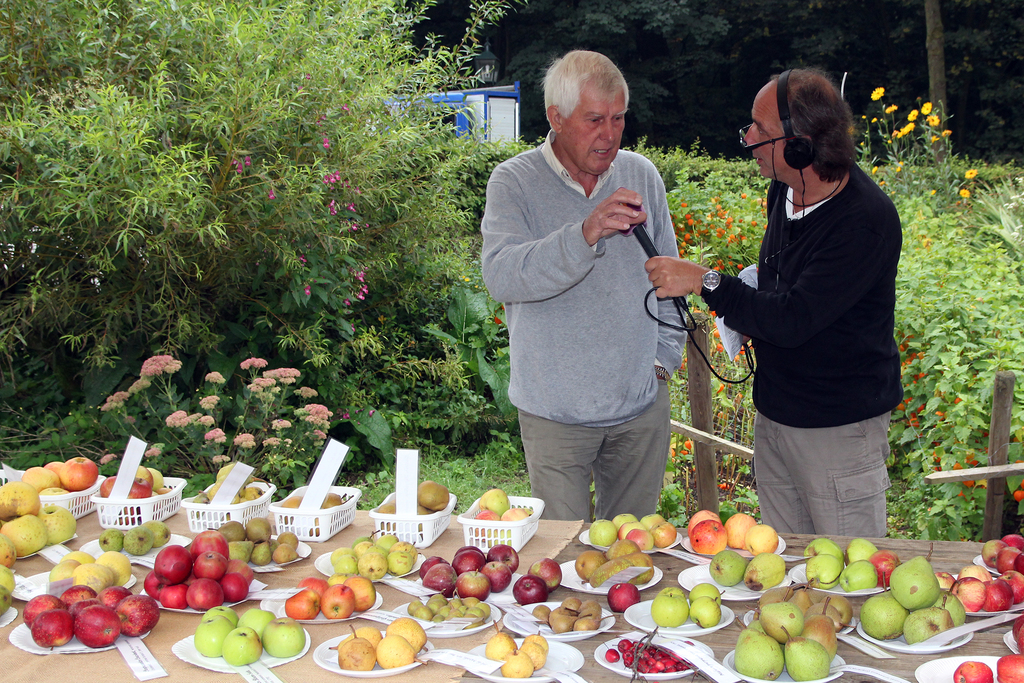Apple: (144, 529, 255, 611), (20, 584, 157, 647), (935, 533, 1023, 611), (418, 545, 517, 599), (587, 513, 676, 548), (259, 616, 306, 658), (71, 603, 119, 644), (0, 517, 46, 558), (218, 625, 261, 665), (192, 617, 233, 657), (0, 482, 42, 518), (38, 506, 76, 541), (803, 554, 840, 589), (803, 538, 844, 569), (948, 579, 984, 614), (94, 552, 131, 586), (59, 454, 97, 487), (650, 594, 688, 627), (237, 609, 276, 641), (72, 563, 116, 591), (691, 520, 727, 554), (280, 588, 318, 620), (867, 548, 899, 586), (838, 560, 878, 590), (744, 523, 780, 556), (725, 511, 757, 548), (320, 584, 353, 619), (18, 465, 59, 493), (508, 574, 547, 602), (347, 574, 376, 611), (528, 561, 560, 593), (608, 581, 642, 611), (688, 595, 721, 625), (688, 509, 722, 538), (981, 578, 1009, 611), (688, 581, 723, 606), (502, 506, 529, 538), (997, 569, 1023, 602), (135, 491, 162, 522), (472, 507, 497, 540), (477, 490, 508, 516), (953, 661, 991, 682), (202, 605, 237, 627), (995, 656, 1023, 682), (844, 538, 877, 560), (0, 532, 19, 569), (981, 542, 1007, 567), (48, 559, 77, 581), (998, 545, 1019, 572), (296, 576, 327, 594), (960, 563, 993, 579), (126, 480, 152, 499), (62, 551, 96, 565), (498, 508, 532, 522), (486, 524, 511, 543), (46, 461, 64, 487), (2, 565, 17, 595), (135, 463, 153, 488), (116, 506, 136, 527), (145, 466, 163, 488), (933, 570, 954, 588), (101, 474, 117, 497), (39, 485, 69, 497), (1011, 611, 1023, 641), (998, 535, 1023, 548), (329, 568, 347, 583), (0, 591, 11, 615), (1015, 624, 1023, 656), (659, 586, 682, 595), (326, 574, 344, 583), (44, 460, 60, 469), (1017, 551, 1023, 573)
